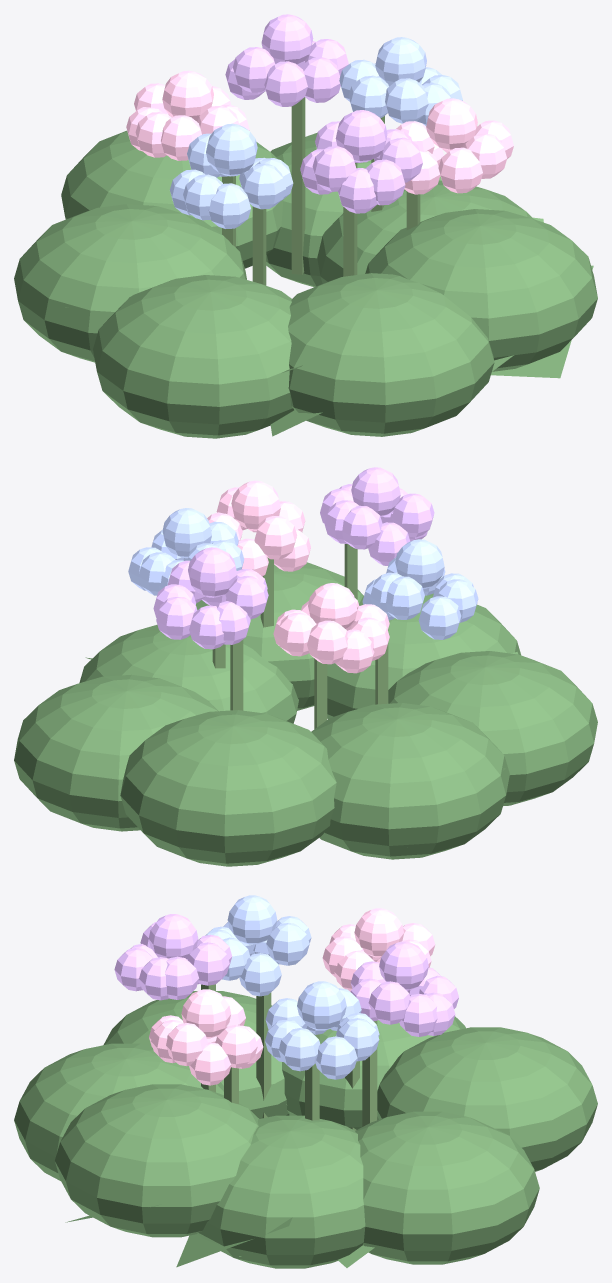
File: hydrangea.glb
The picture shows the model from 3 angles, top to bottom: view 1: azimuth 30°, elevation 25°; view 2: azimuth 150°, elevation 25°; view 3: azimuth 270°, elevation 25°; orthographic projection. The views are drawn at different scales.
Parts seen in each view (by area): view 1: hydrangea; view 2: hydrangea; view 3: hydrangea.
Part boxes in pixels (bbox=[...]): hydrangea: bbox=[14, 14, 597, 438]; hydrangea: bbox=[14, 467, 597, 866]; hydrangea: bbox=[14, 895, 597, 1268].
Bounding box in the file's own units: 0.8312 × 0.4883 × 0.938.
